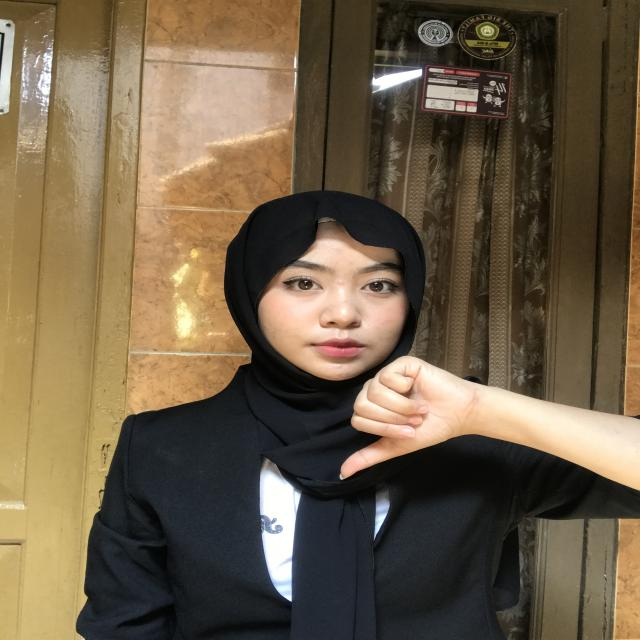sedih: (290, 330, 513, 485)
